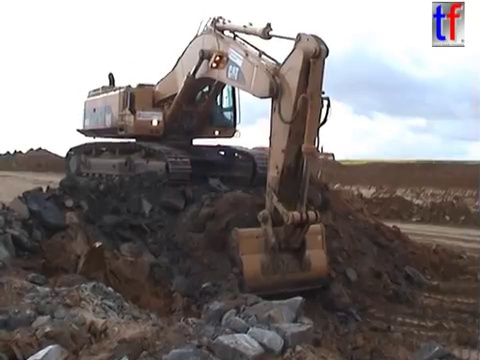excavator: (61, 12, 332, 299)
wheel loader: (263, 134, 336, 171)
